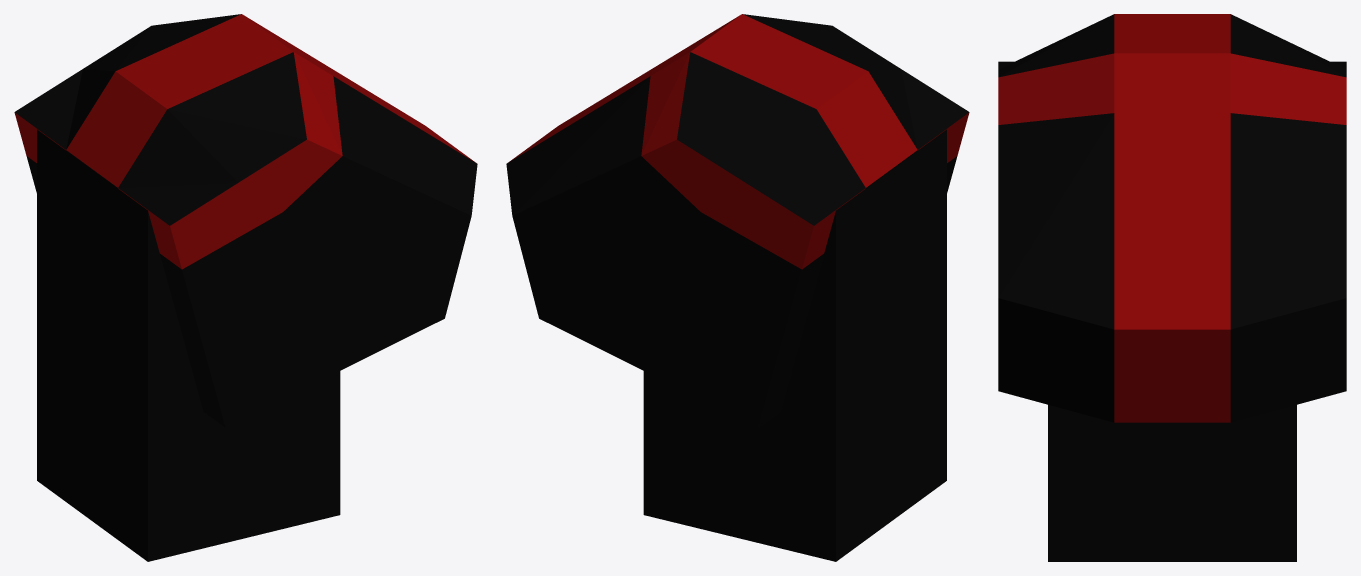
File: BossRightArm.obj
3 views of the same model, side by side, from view 1: azimuth 30°, elevation 25°; view 2: azimuth 150°, elevation 25°; view 3: azimuth 270°, elevation 25° (orthographic). The views are drawn at different scales.
Bounding box in the file's own units: 1.87 × 2.21 × 1.4.
1 material, 1 textured.
